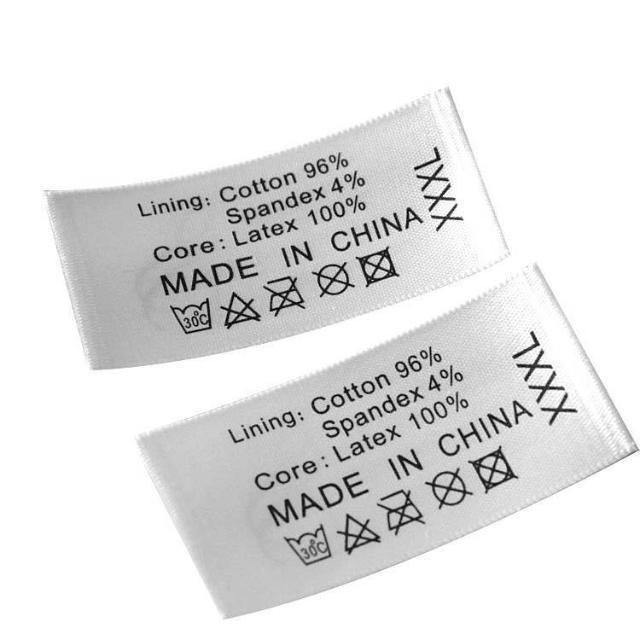30C: (282, 521, 336, 571), (164, 294, 218, 338)
DN_bleach: (332, 509, 386, 557), (217, 288, 265, 330)
DN_dry_clean: (423, 465, 475, 513), (310, 258, 358, 300)
DN_iron: (374, 486, 430, 536), (261, 270, 307, 320)
DN_tumble_dry: (462, 442, 524, 496), (354, 243, 404, 289)
